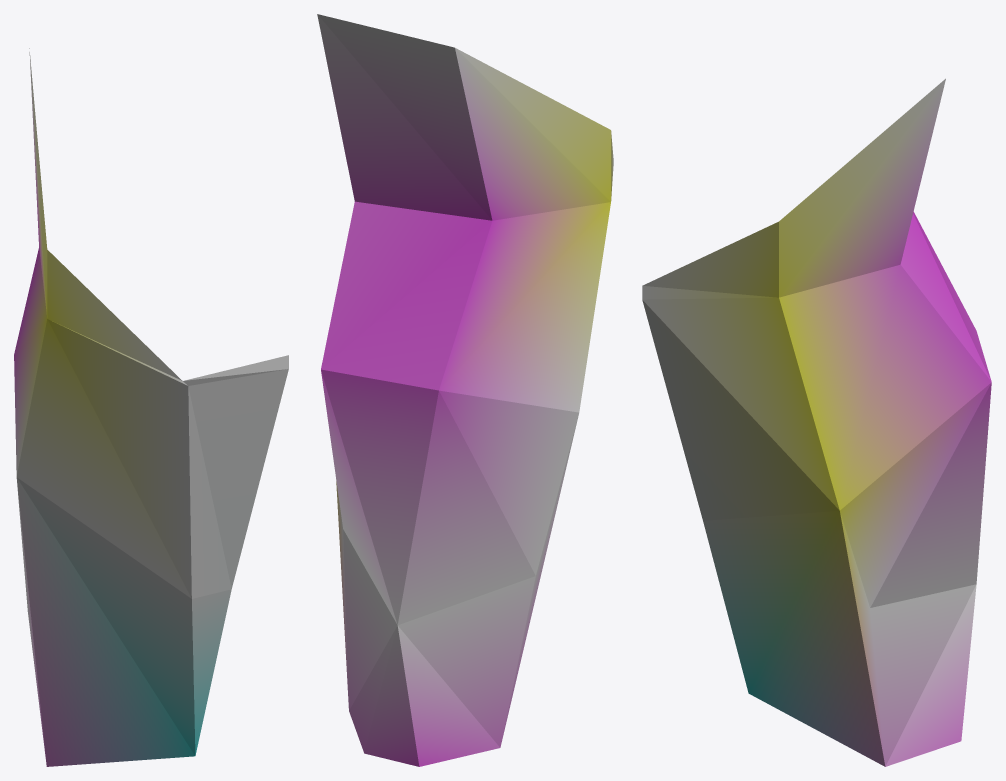
3 renders of one model, left to right at view 1: azimuth 30°, elevation 25°; view 2: azimuth 150°, elevation 25°; view 3: azimuth 270°, elevation 25°, orthographic. The views are drawn at different scales.
Visible parts, largest first — view 1: model_1157; view 2: model_1157; view 3: model_1157.
Part boxes in pixels (bbox=[...]): model_1157: bbox=[14, 48, 288, 766]; model_1157: bbox=[317, 14, 613, 766]; model_1157: bbox=[642, 78, 991, 766].
Bounding box in the file's own units: 18 × 50 × 23.
